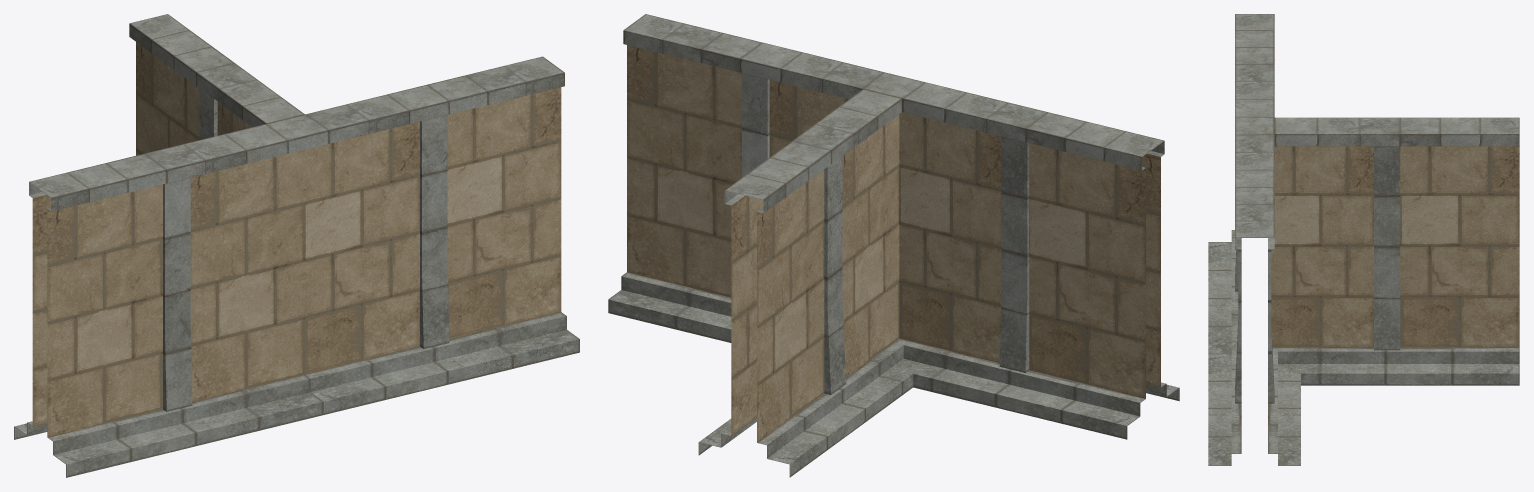
File: wall_T_junction.fbx
3 renders of one model, left to right at view 1: azimuth 30°, elevation 25°; view 2: azimuth 150°, elevation 25°; view 3: azimuth 270°, elevation 25°, orthographic. The views are drawn at different scales.
Visible parts, largest first — view 1: wall_T_junction; view 2: wall_T_junction; view 3: wall_T_junction.
Part boxes in pixels (x1,y1,x2,y2): wall_T_junction: (14,14,579,477); wall_T_junction: (608,14,1179,477); wall_T_junction: (1208,14,1519,465).
Size of the model in its own units: 400 by 200 by 235.
